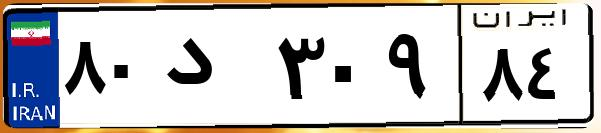0: (330, 28, 385, 110), (110, 28, 158, 98)
3: (270, 28, 330, 110)
4: (525, 38, 570, 115)
8: (57, 26, 110, 100), (475, 38, 525, 113)
9: (385, 28, 445, 110)
د: (158, 20, 270, 120)
